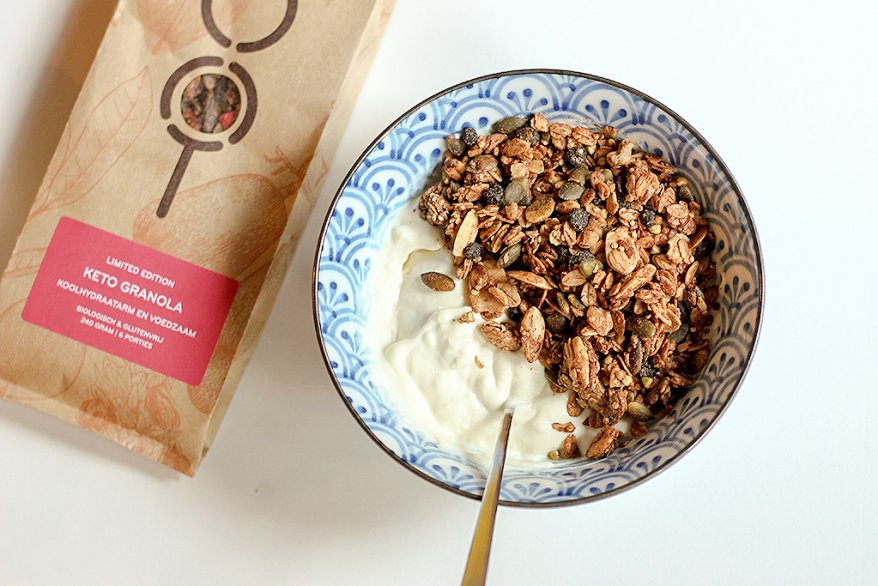KetoGranola: (19, 214, 248, 392)
